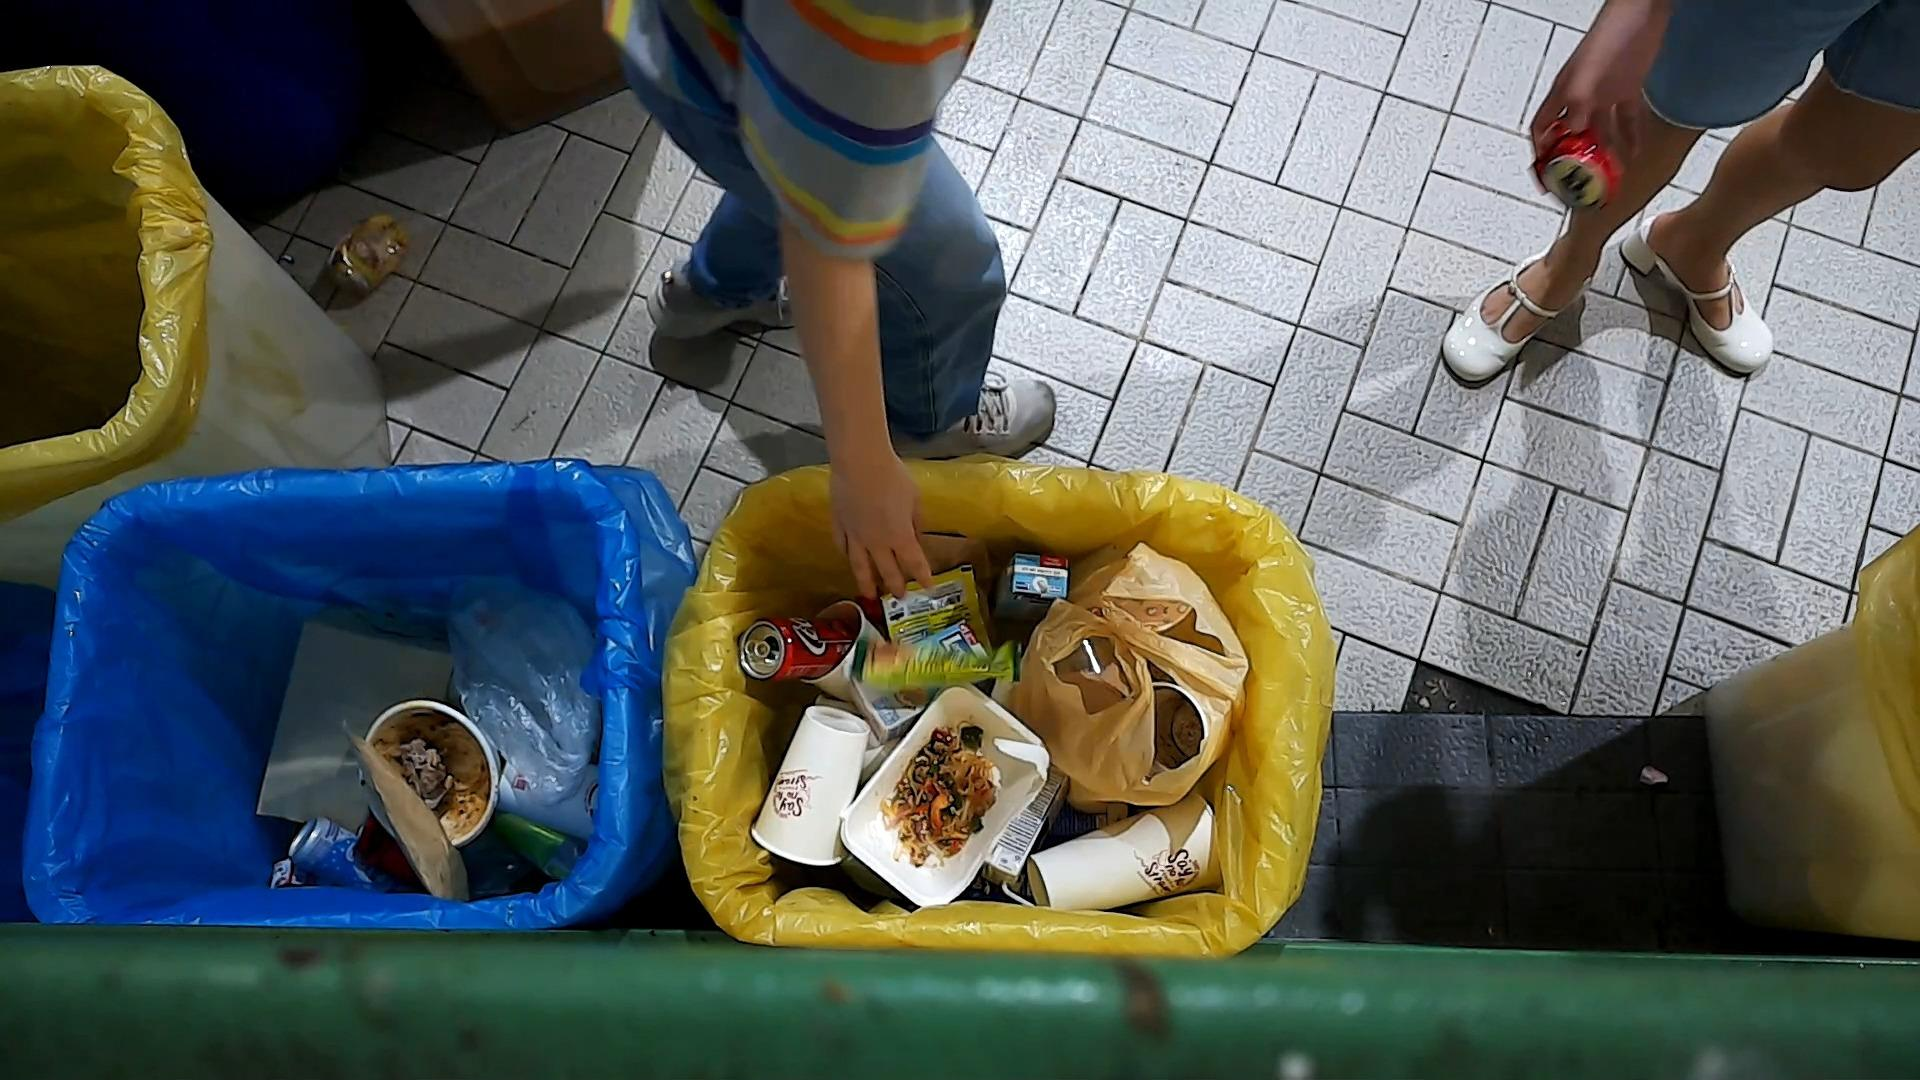can: (1528, 111, 1629, 219), (285, 812, 404, 895), (736, 612, 858, 683), (487, 808, 585, 884)
dirty food container: (835, 674, 1055, 910), (356, 696, 504, 855)
filled plastic bag: (1006, 541, 1255, 816)
milk carton: (847, 616, 1005, 748), (982, 761, 1073, 907), (993, 551, 1071, 633)
paper bag: (249, 617, 458, 847), (336, 713, 471, 905)
plastic bag: (442, 562, 601, 807)
snack packaging: (878, 560, 996, 655), (848, 637, 1025, 691)
zero waste cup: (1023, 787, 1226, 918), (745, 703, 874, 870), (492, 749, 604, 839)
